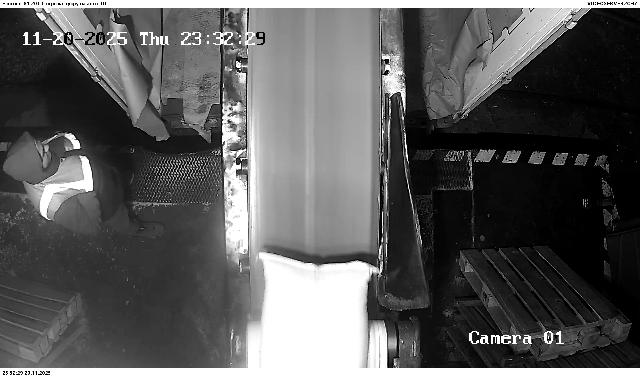bag: (258, 252, 379, 368)
